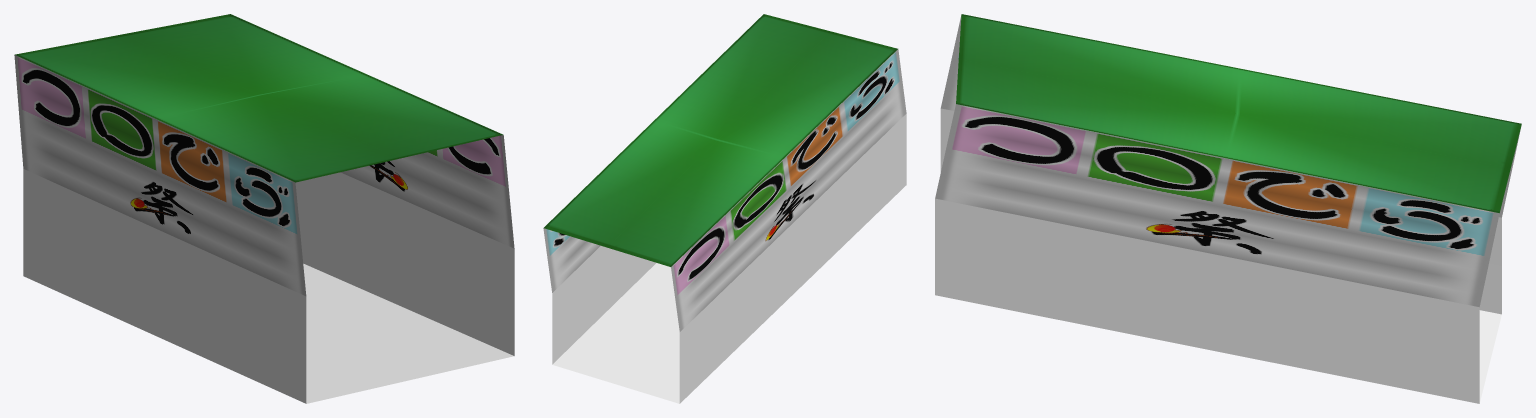
Rendered from CourseWinter_Wall_L_2_1.fbx.
3 views of the same model, side by side, from view 1: azimuth 30°, elevation 25°; view 2: azimuth 150°, elevation 25°; view 3: azimuth 270°, elevation 25° (orthographic). The views are drawn at different scales.
Parts seen in each view (by area): view 1: polySurface454; view 2: polySurface454; view 3: polySurface454.
Part boxes in pixels (<box>): polySurface454: <box>14,14,514,403</box>; polySurface454: <box>543,14,906,403</box>; polySurface454: <box>935,14,1521,403</box>.
Bounding box in the file's own units: 2.29 × 2.98 × 5.5.
1 material, 1 textured.
